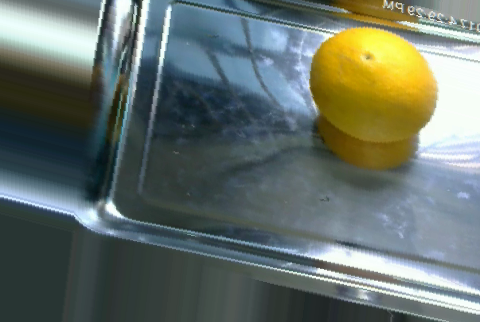Orange: (310, 27, 438, 142)
